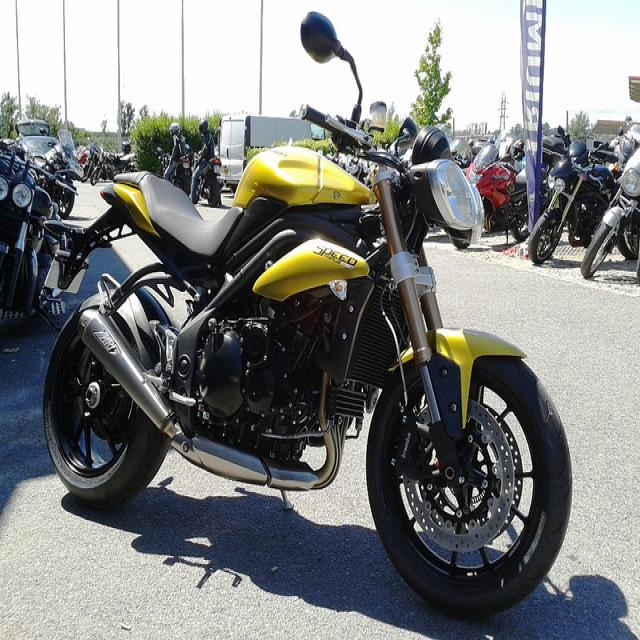motor: (37, 8, 574, 620), (524, 125, 626, 265), (1, 158, 84, 326), (579, 116, 640, 286), (464, 143, 530, 244), (509, 136, 561, 212), (15, 122, 78, 173), (179, 149, 227, 211), (90, 145, 138, 185), (79, 147, 100, 182), (172, 159, 189, 179)
